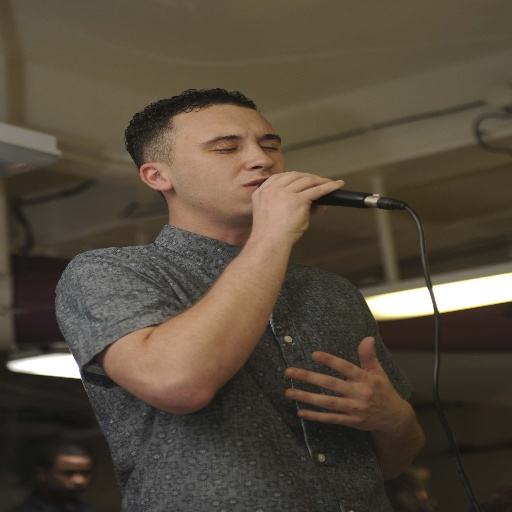hand: (283, 344, 422, 452), (248, 170, 346, 246)
